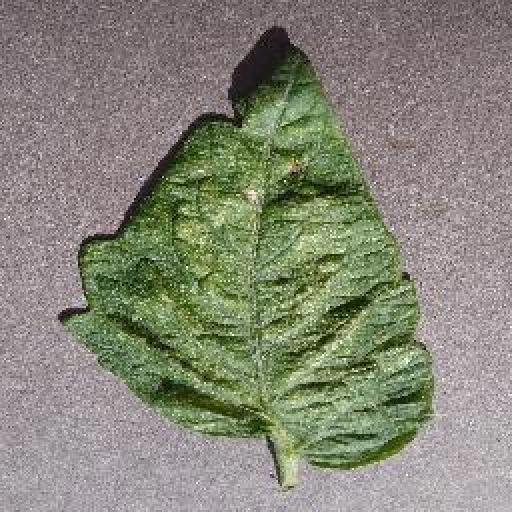disease_tomato: (62, 40, 434, 470)
